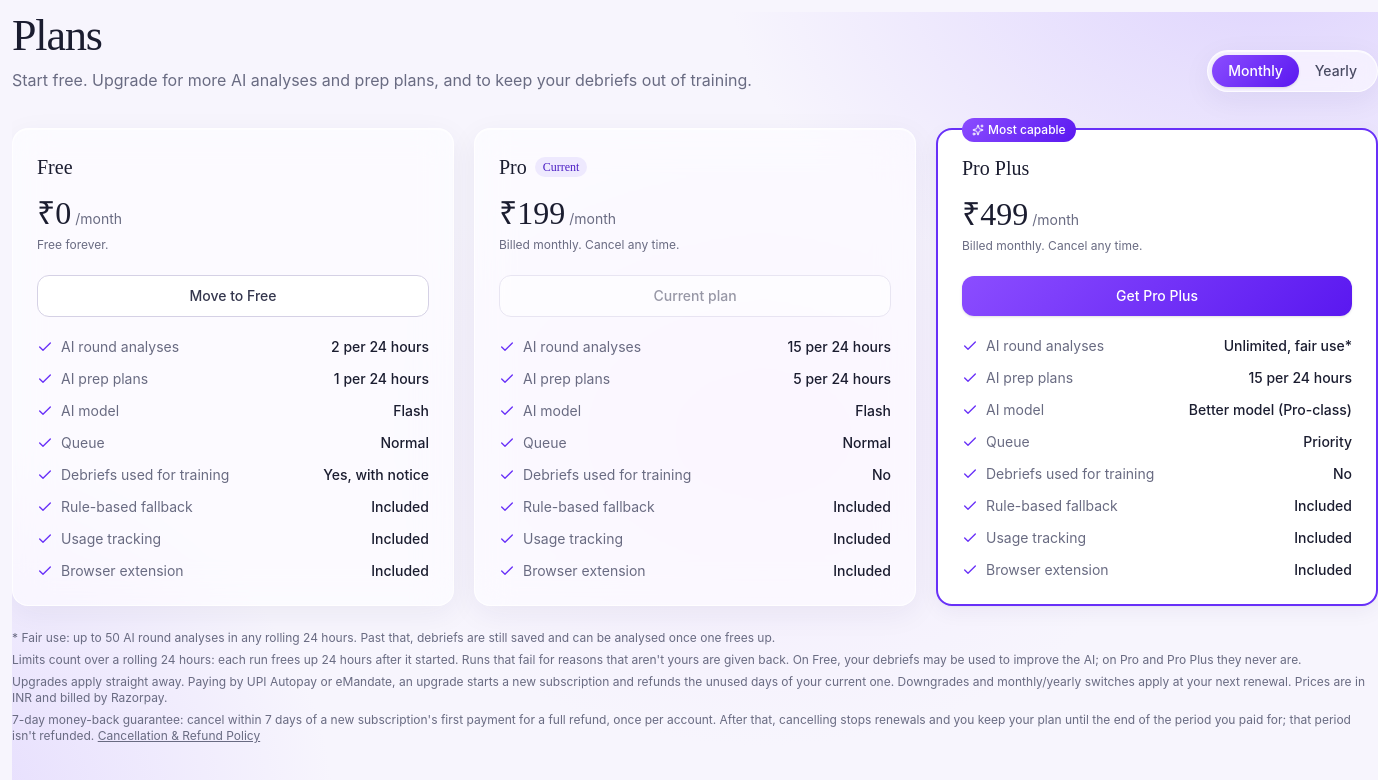
it: pricing page › says when a subscription bought to follow the current one starts
Check: the heading "Pro Plus" is shown, box [962, 157, 1029, 179]
Click the button "Get Pro Plus": (1157, 296) [962, 276, 1352, 316]
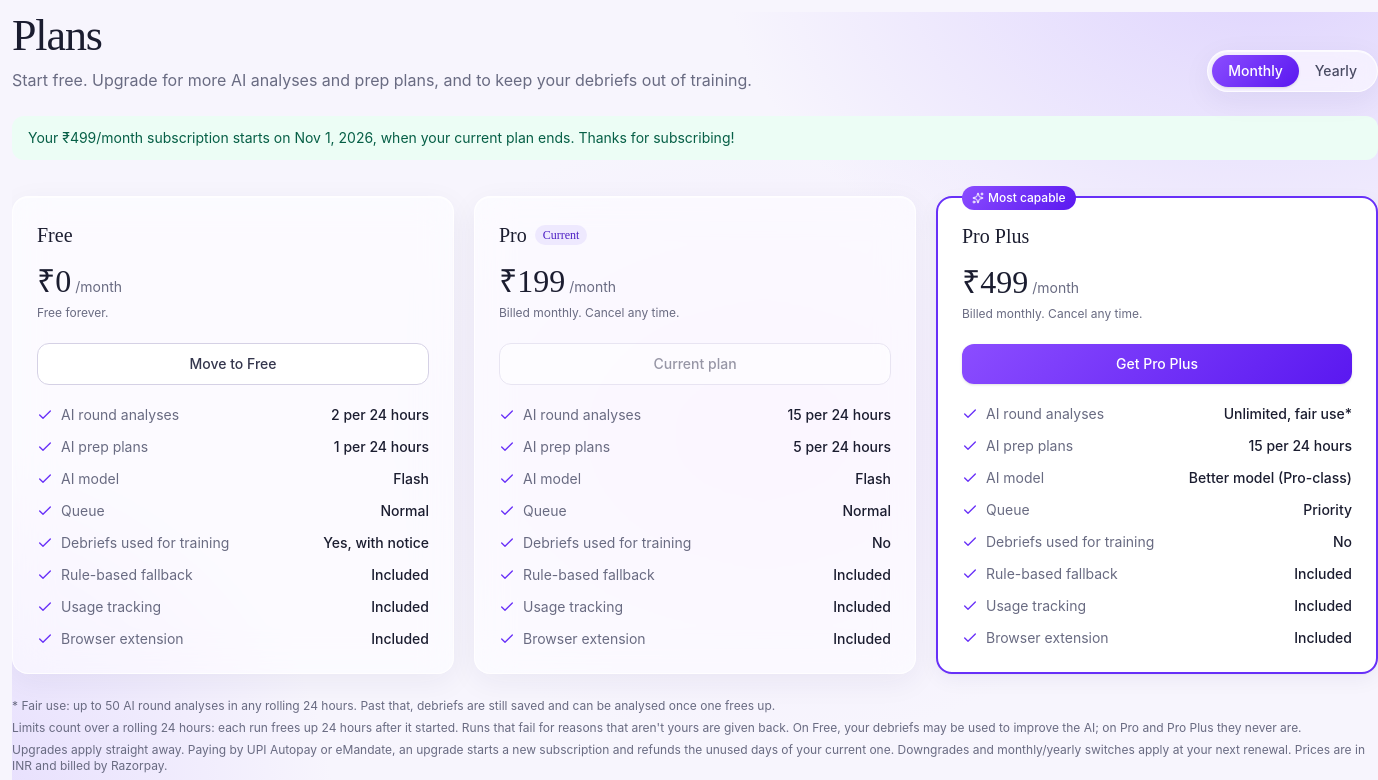
Check: the text "subscription starts on" is shown, box [143, 129, 294, 146]
